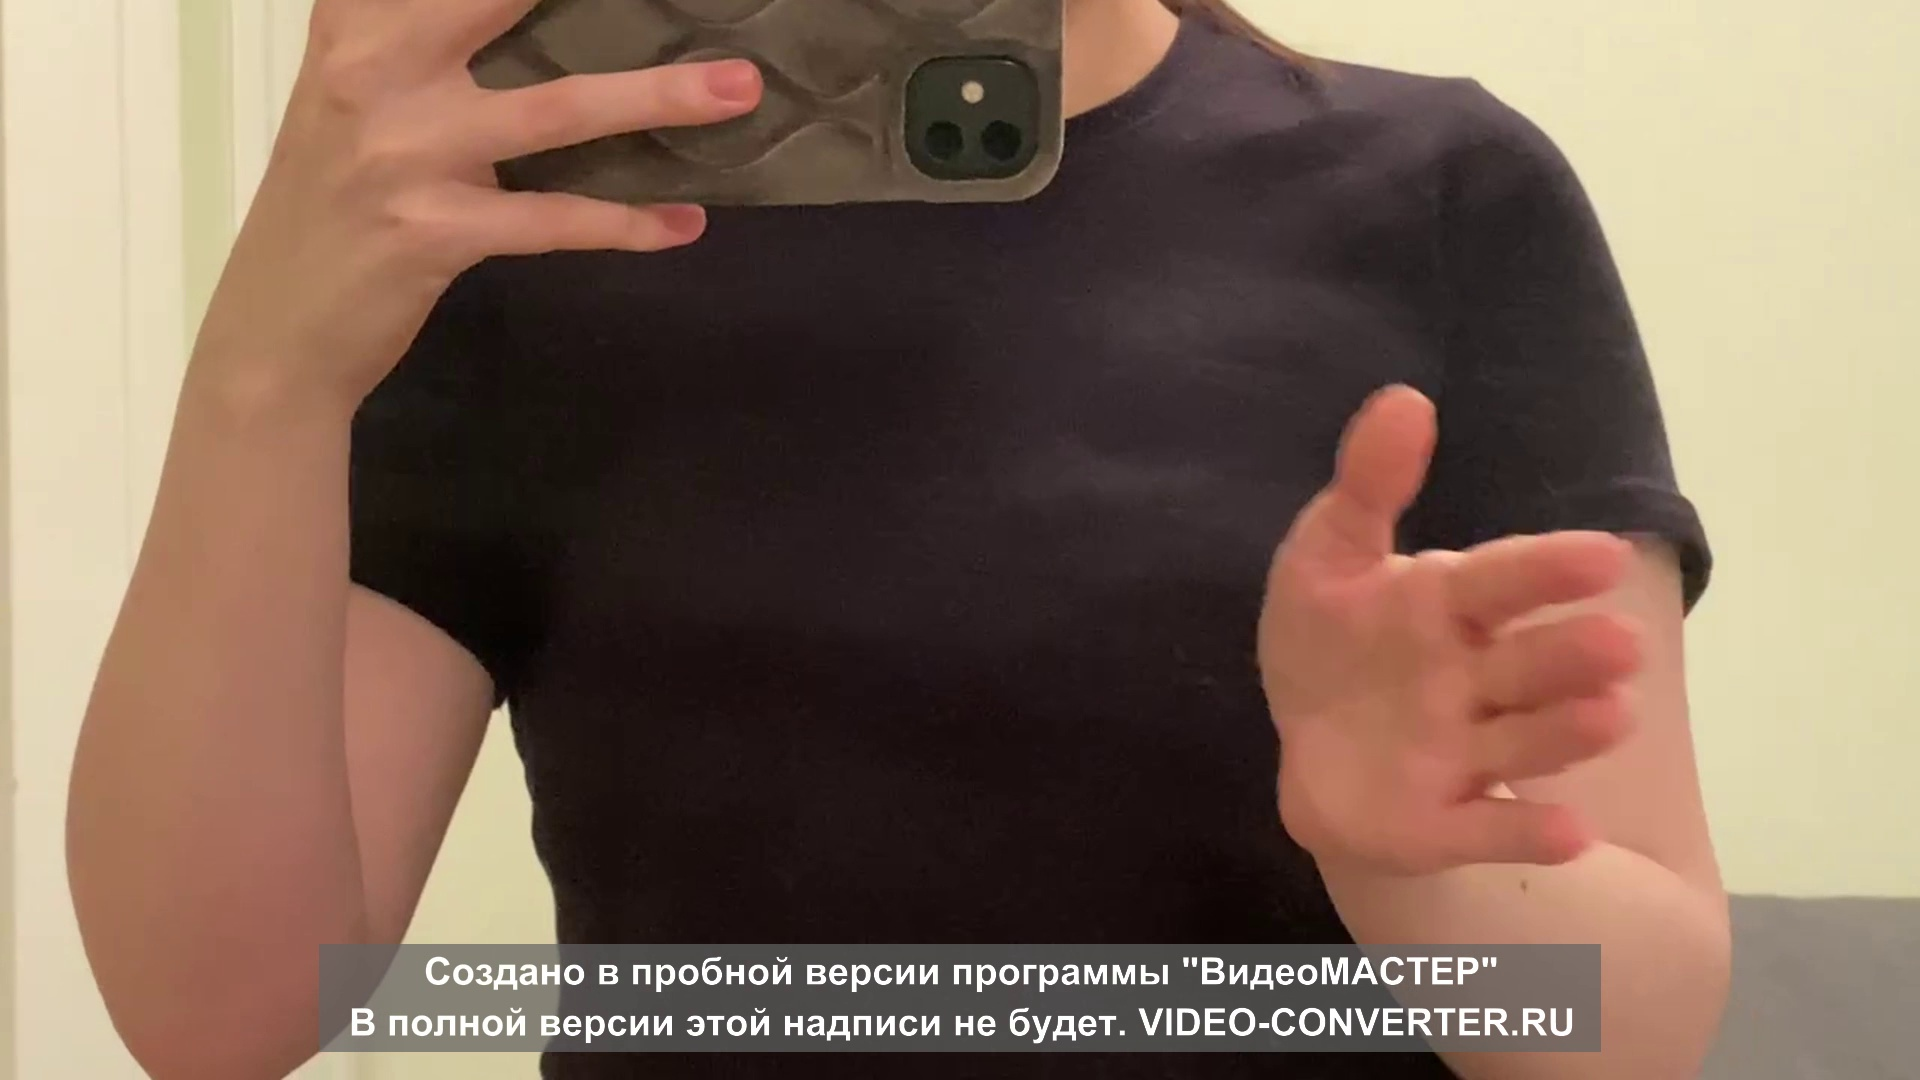Ладонь: (1258, 386, 1646, 865)
